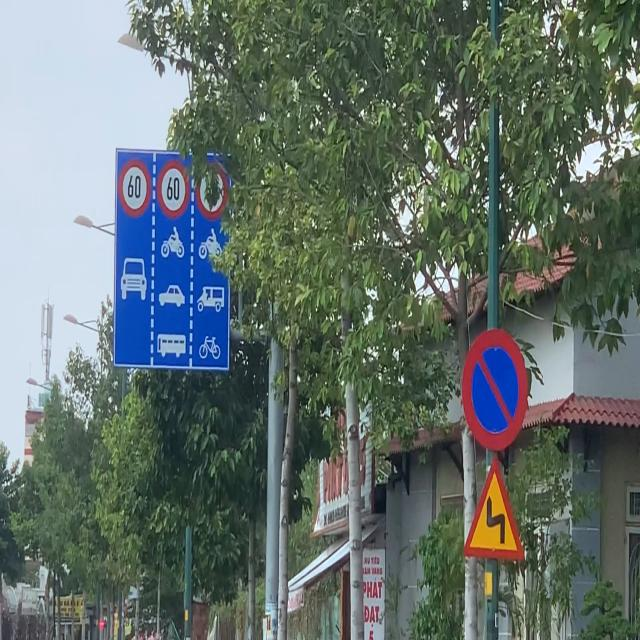Cam do: (463, 314, 530, 454)
Nguy hiem: (460, 448, 530, 566)
Toc do toi da: (118, 150, 151, 228), (157, 154, 192, 220)
